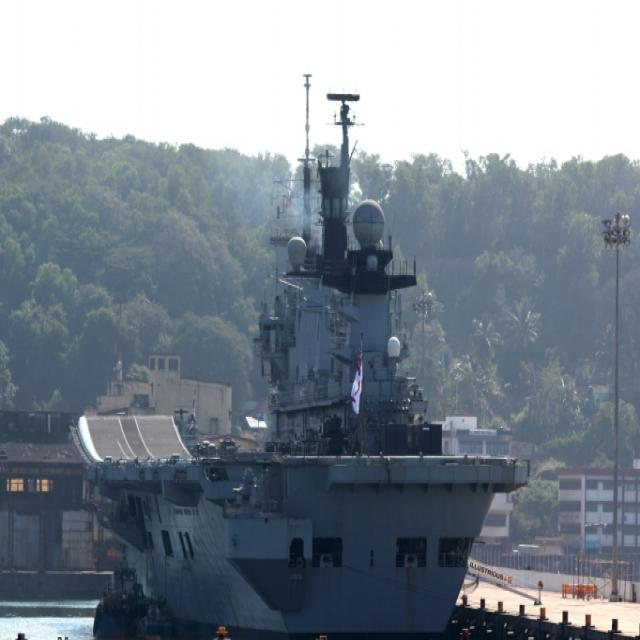Portanaves: (66, 68, 537, 640)
